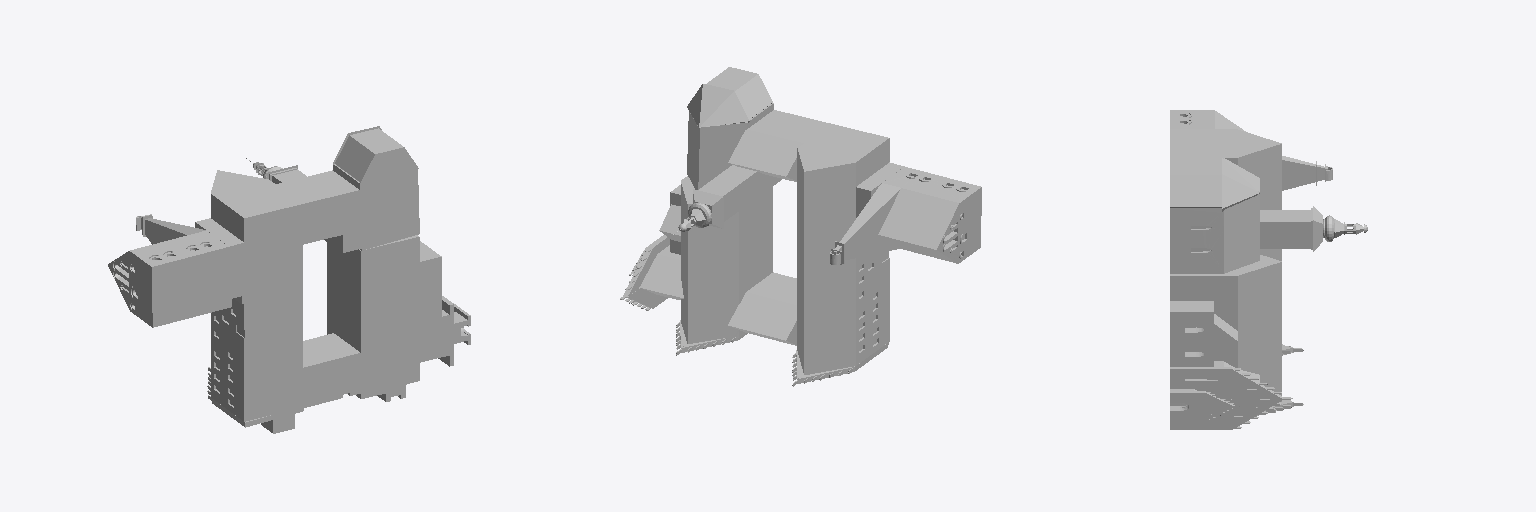
Rendered from Kościół Bernardynów.obj.
3 views of the same model, side by side, from view 1: azimuth 30°, elevation 25°; view 2: azimuth 150°, elevation 25°; view 3: azimuth 270°, elevation 25° (orthographic).
Visible parts, largest first — view 1: Kościół_Bernardynów_obj_0; view 2: Kościół_Bernardynów_obj_0; view 3: Kościół_Bernardynów_obj_0.
Part boxes in pixels (x1,y1,x2,y2): Kościół_Bernardynów_obj_0: (108,126,470,433); Kościół_Bernardynów_obj_0: (620,67,981,386); Kościół_Bernardynów_obj_0: (1170,110,1367,429).
Size of the model in its own units: 0.0422 by 0.0325 by 0.0251.